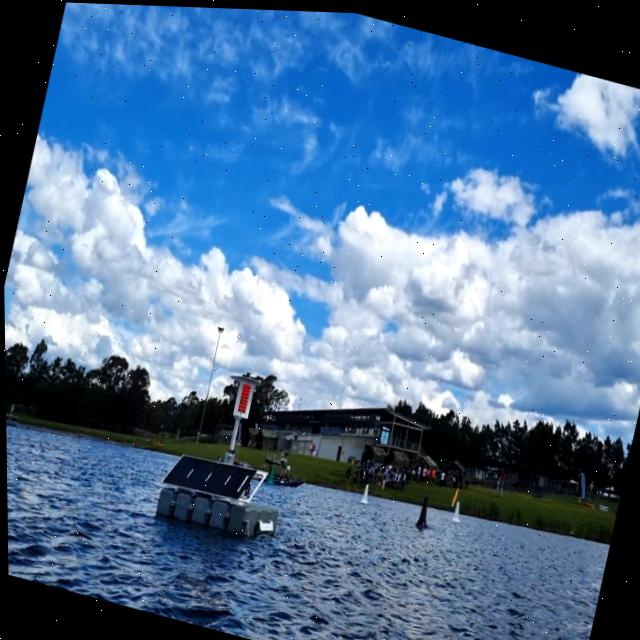led: (232, 378, 252, 416)
